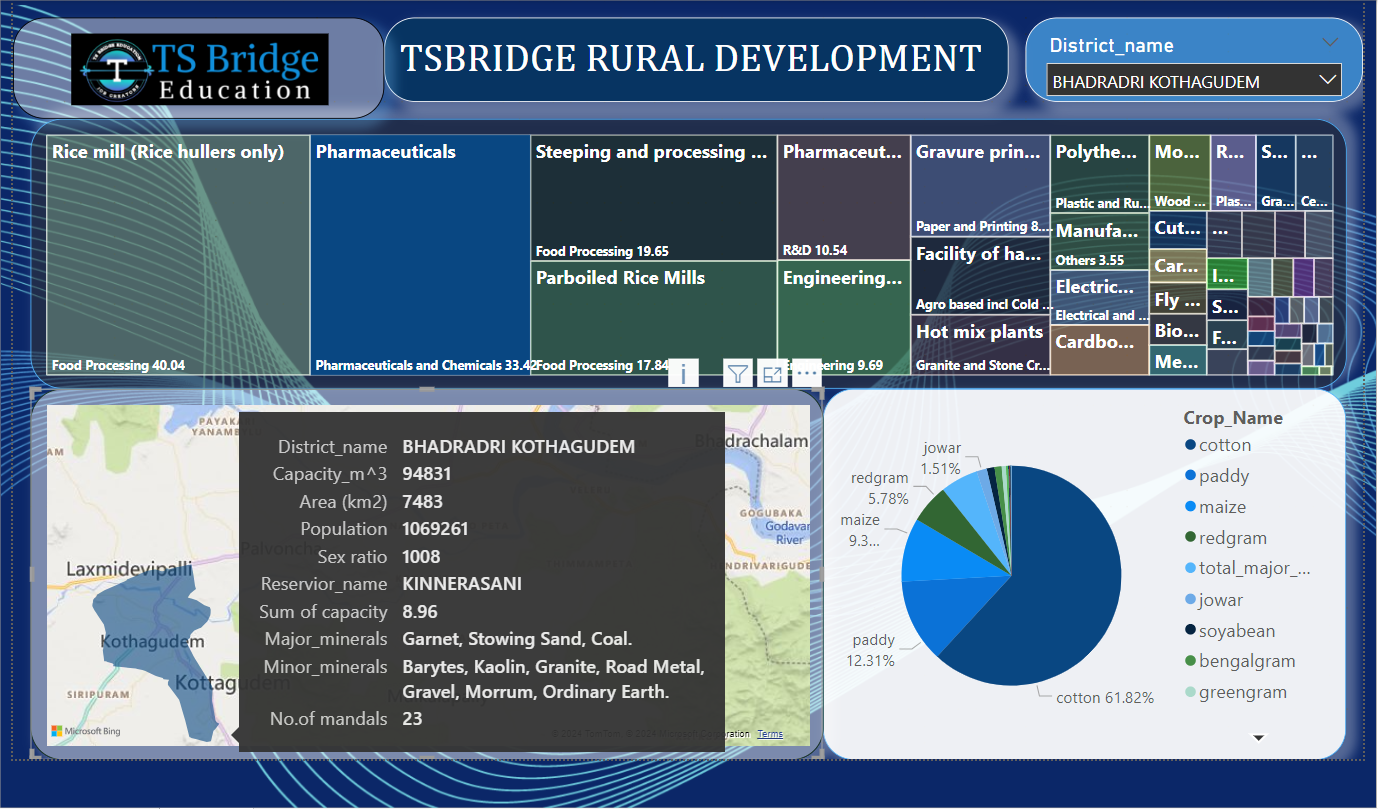

This screenshot's page, from the dashboard's own definition file:
{"tool":"powerbi","page":{"name":"Page 1","canvas":[1280,720],"ordinal":0},"visuals":[{"type":"filledMap","fields":{"Category":["TS_population.District_name"]},"box":[16,368,752,352],"z":0},{"type":"slicer","fields":{"Values":["TS_population.District_name"]},"box":[960,16,320,80],"z":1000},{"type":"treemap","fields":{"Group":["TS_Industries.line_of_activity"],"Details":["TS_Industries.sector"],"Values":["Sum(TS_Industries.investment)"]},"box":[16,112,1248,256],"z":2000},{"type":"pieChart","fields":{"Category":["TS_Agriculture.Crop_Name","TS_Agriculture.District_name"],"Series":["TS_Agriculture.Crop_Name"],"Y":["Sum(TS_Agriculture.Current_year_Area_Sown)"]},"box":[768,368,496,352],"z":3000},{"type":"textbox","box":[352,16,592,80],"z":4000},{"type":"image","box":[0,16,352,96],"z":5000}]}

Visuals, with their boxes on the page's 1280x720 design canvas (x1, y1, x2, y2). These are canvas units, not pixel positions in the 1378x809 screenshot, which may show the page scaled, cropped or inside an application window:
filledMap - TS_population.District_name: (left=16, top=368, right=768, bottom=720)
slicer - TS_population.District_name: (left=960, top=16, right=1280, bottom=96)
treemap - TS_Industries.line_of_activity x TS_Industries.sector: (left=16, top=112, right=1264, bottom=368)
pieChart - TS_Agriculture.Crop_Name x TS_Agriculture.District_name: (left=768, top=368, right=1264, bottom=720)
textbox: (left=352, top=16, right=944, bottom=96)
image: (left=0, top=16, right=352, bottom=112)
